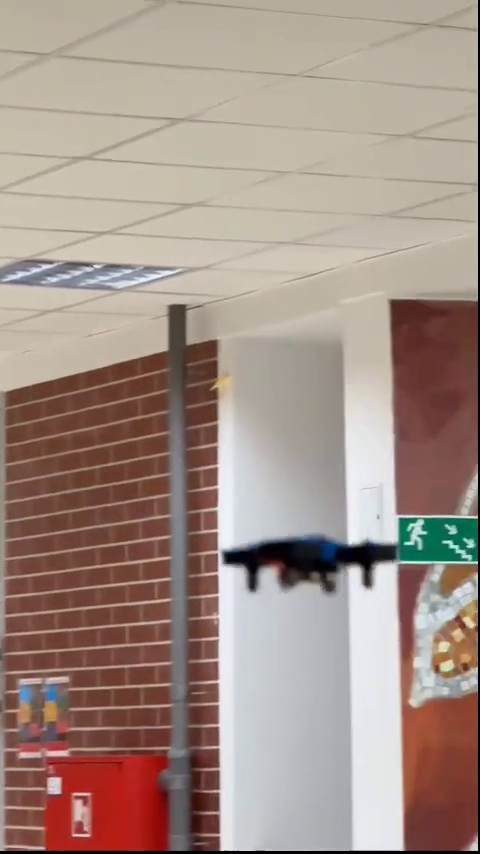drone: (214, 537, 398, 597)
